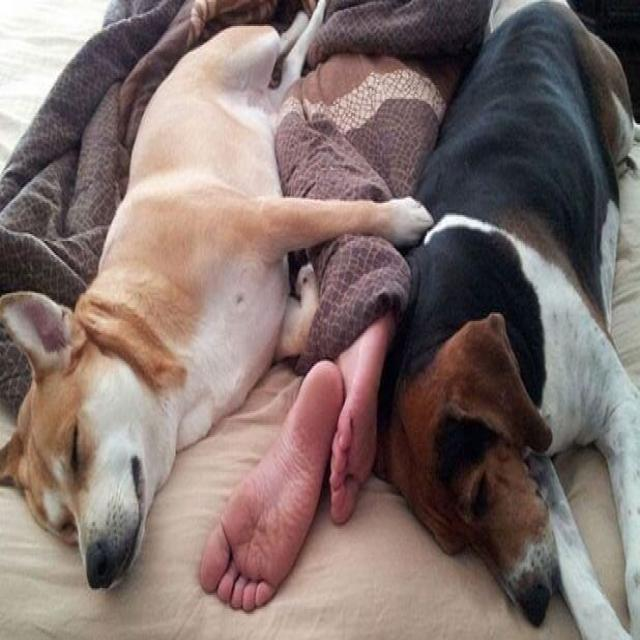laying down: (0, 10, 432, 592), (375, 5, 640, 640)
